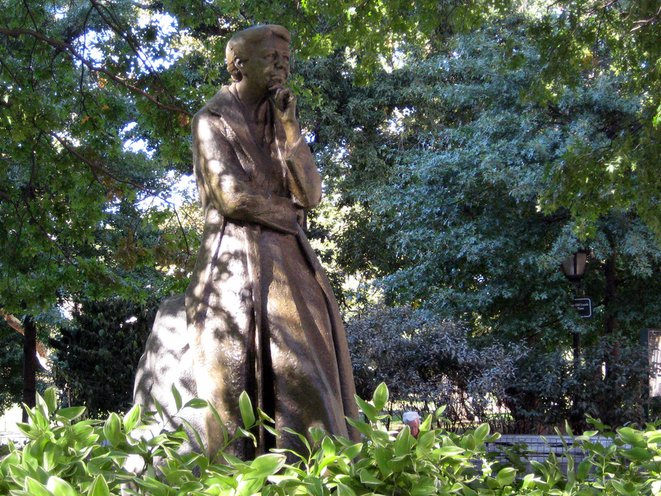person-like: (175, 18, 376, 464)
